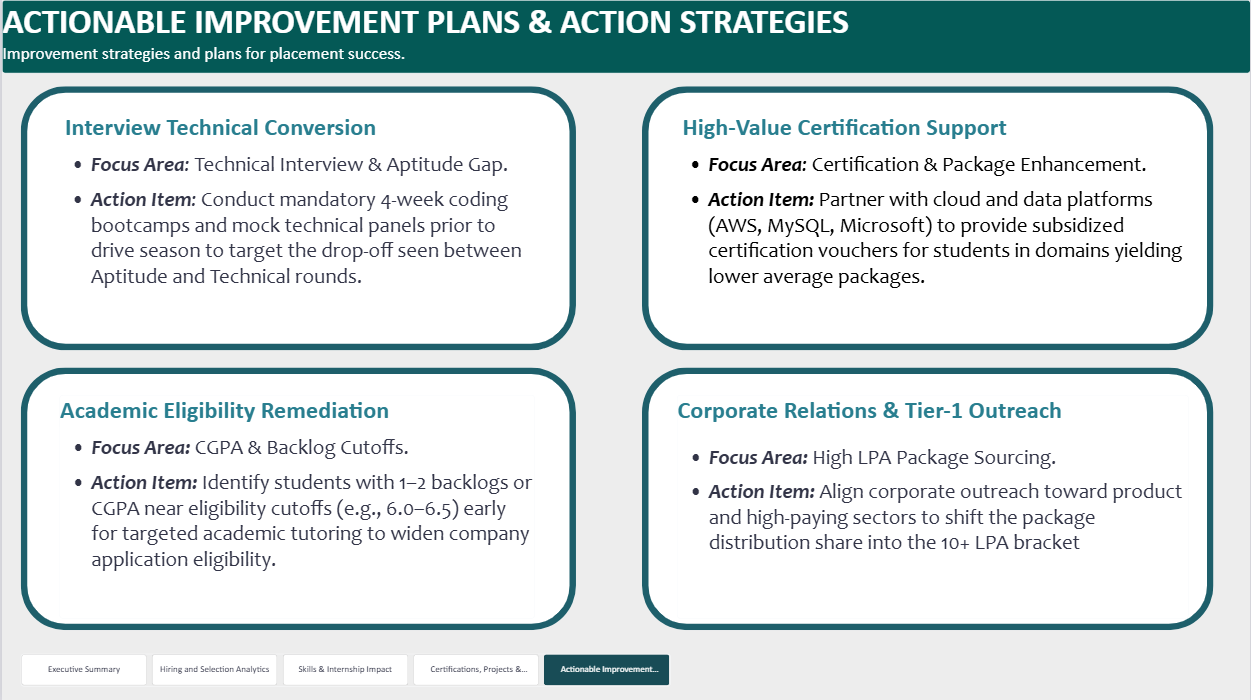

Layout of this report page (visuals, bound fields, positions):
{"tool":"powerbi","page":{"name":"Actionable Improvement Plans & Action Strategies","canvas":[1920,1080],"ordinal":4},"visuals":[{"type":"textbox","box":[0,0,1920.8,112.5],"z":0},{"type":"shape","box":[29.2,133.3,854.2,406.2],"z":1000},{"type":"shape","box":[29.2,564.6,854.2,404.2],"z":2000},{"type":"shape","box":[985.4,133.3,879.2,406.2],"z":3000},{"type":"shape","box":[985.4,564.6,879.2,404.2],"z":4000},{"type":"textbox","box":[87.5,172.9,731.2,333.3],"z":5000},{"type":"textbox","box":[1037.5,172.9,787.5,333.3],"z":6000},{"type":"textbox","box":[87.5,608.3,731.2,343.8],"z":7000},{"type":"textbox","box":[1037.5,608.3,787.5,343.8],"z":8000},{"type":"pageNavigator","box":[29.2,1006.2,1000,50],"z":8001}]}

Visuals, with their boxes in screenshot pixels (x1, y1, x2, y2), scaled from the page's 1920x1080 canvas onto the 1251x700 screenshot:
textbox: [x1=0, y1=0, x2=1250, y2=73]
shape: [x1=19, y1=86, x2=576, y2=350]
shape: [x1=19, y1=366, x2=576, y2=628]
shape: [x1=642, y1=86, x2=1215, y2=350]
shape: [x1=642, y1=366, x2=1215, y2=628]
textbox: [x1=57, y1=112, x2=533, y2=328]
textbox: [x1=676, y1=112, x2=1189, y2=328]
textbox: [x1=57, y1=394, x2=533, y2=617]
textbox: [x1=676, y1=394, x2=1189, y2=617]
pageNavigator: [x1=19, y1=652, x2=671, y2=685]
